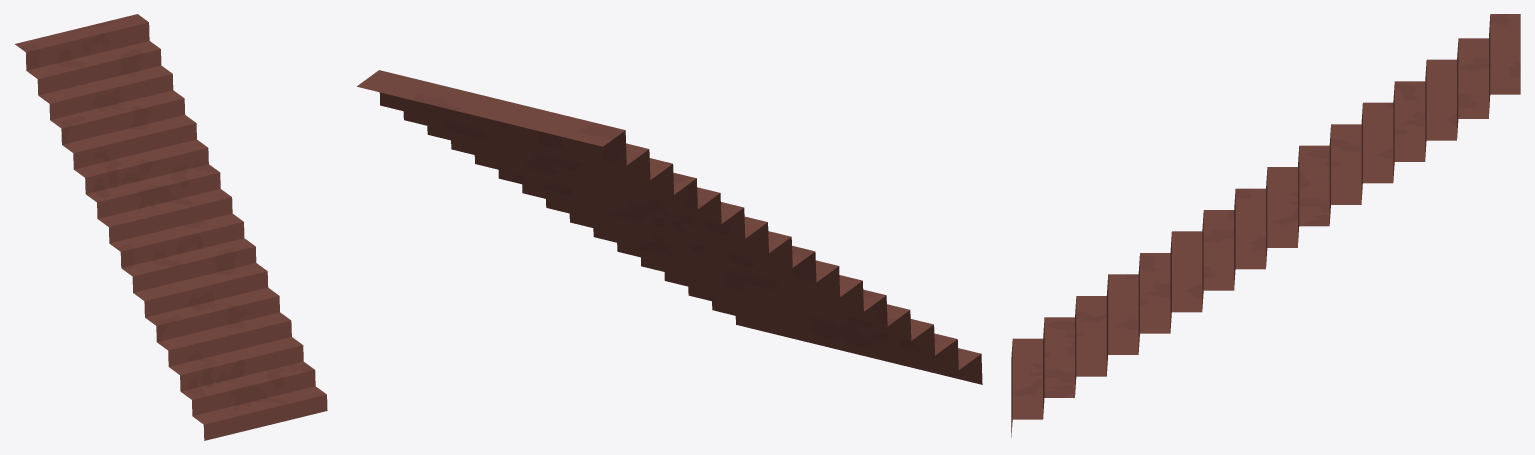
Rendered from SM_Bld_House_Interior_Stairs_01.fbx.
3 renders of one model, left to right at view 1: azimuth 30°, elevation 25°; view 2: azimuth 150°, elevation 25°; view 3: azimuth 270°, elevation 25°, orthographic. The views are drawn at different scales.
Parts seen in each view (by area): view 1: SM_Bld_House_Interior_Stairs_01; view 2: SM_Bld_House_Interior_Stairs_01; view 3: SM_Bld_House_Interior_Stairs_01.
Part boxes in pixels (box(x1,y1,x2,y2)): SM_Bld_House_Interior_Stairs_01: box(15, 14, 327, 440); SM_Bld_House_Interior_Stairs_01: box(357, 70, 982, 384); SM_Bld_House_Interior_Stairs_01: box(1011, 14, 1520, 437).
Bounding box in the file's own units: 150 × 300 × 400.
